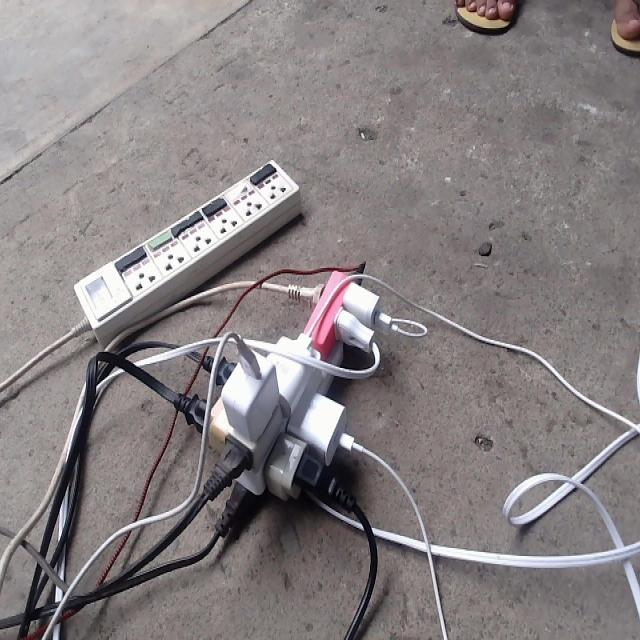-: (166, 257, 427, 628)
